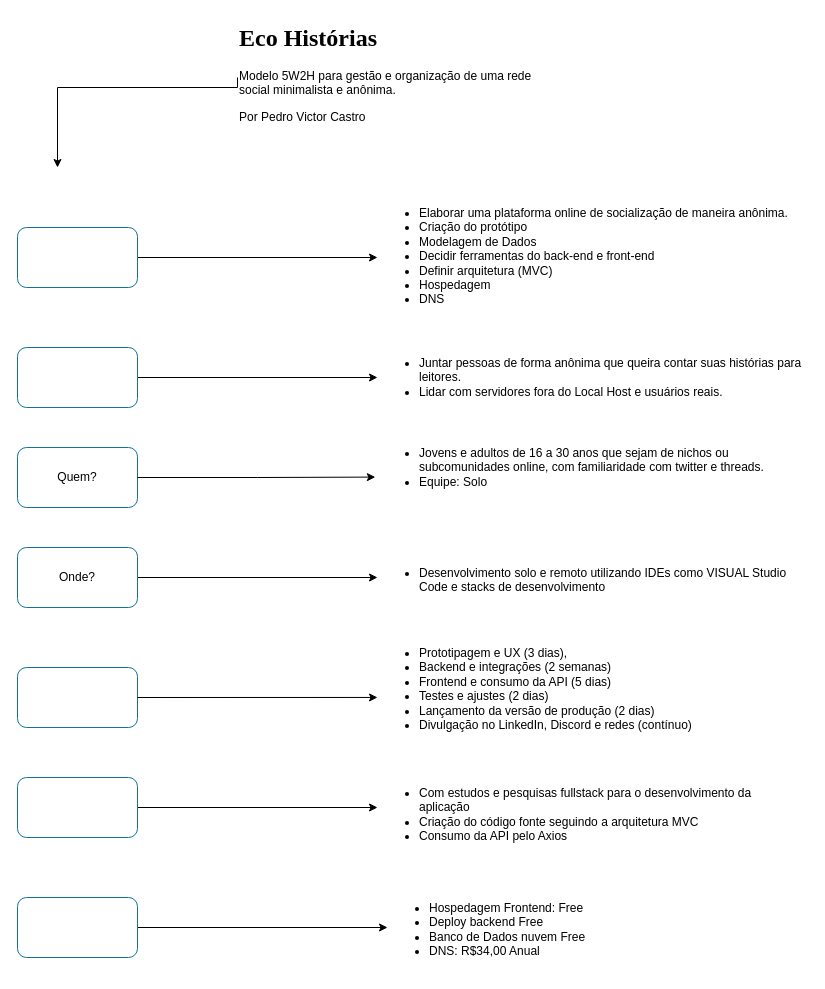
This 825x989 diagram has some shape labels left out. Each missing label, with the centre of its shape:
Como?: the point at 77,807
O que?: the point at 77,257
Por que?: the point at 77,377
Quando?: the point at 77,697
Quanto?: the point at 77,927
